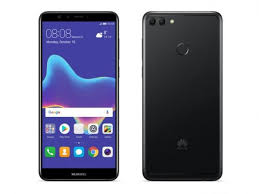huawei: (33, 7, 122, 183), (138, 7, 227, 183)
